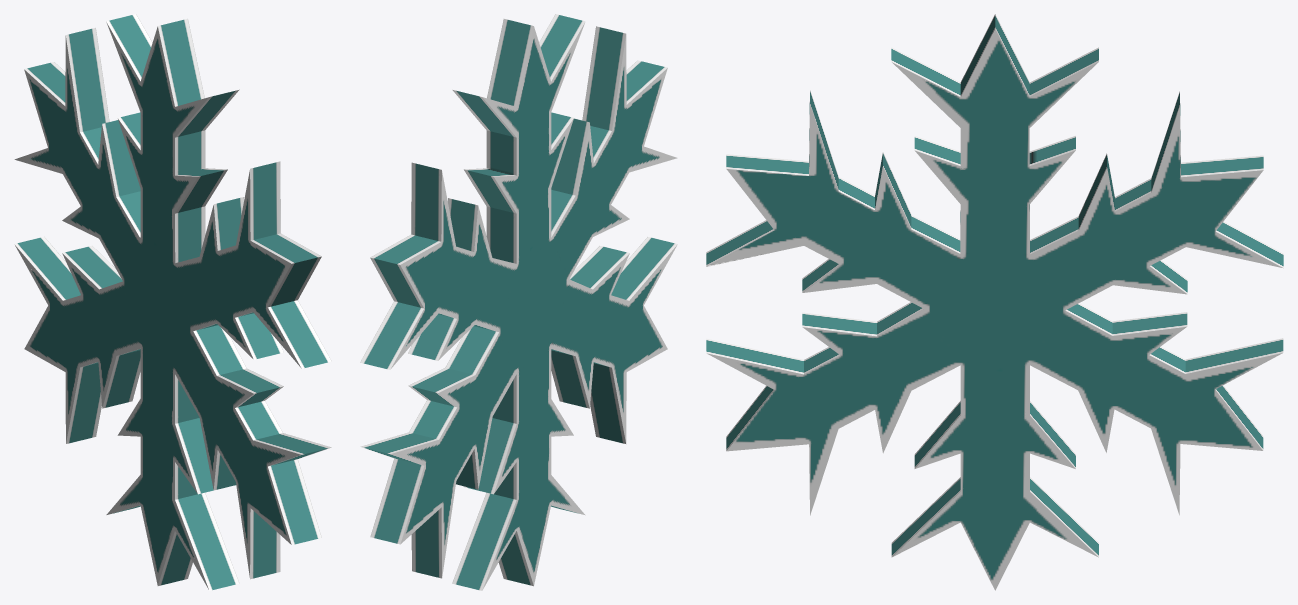
The model's file is Ice_Projectile.fbx.
3 views of the same model, side by side, from view 1: azimuth 30°, elevation 25°; view 2: azimuth 150°, elevation 25°; view 3: azimuth 270°, elevation 25° (orthographic).
Visible parts, largest first — view 1: Ice_Projectile; view 2: Ice_Projectile; view 3: Ice_Projectile.
Boxes of the visible parts, x1,y1,x2,y2 form: Ice_Projectile: [14, 14, 331, 590]; Ice_Projectile: [360, 14, 677, 590]; Ice_Projectile: [706, 14, 1283, 590].
Bounding box in the file's own units: 21.32 × 378 × 352.
